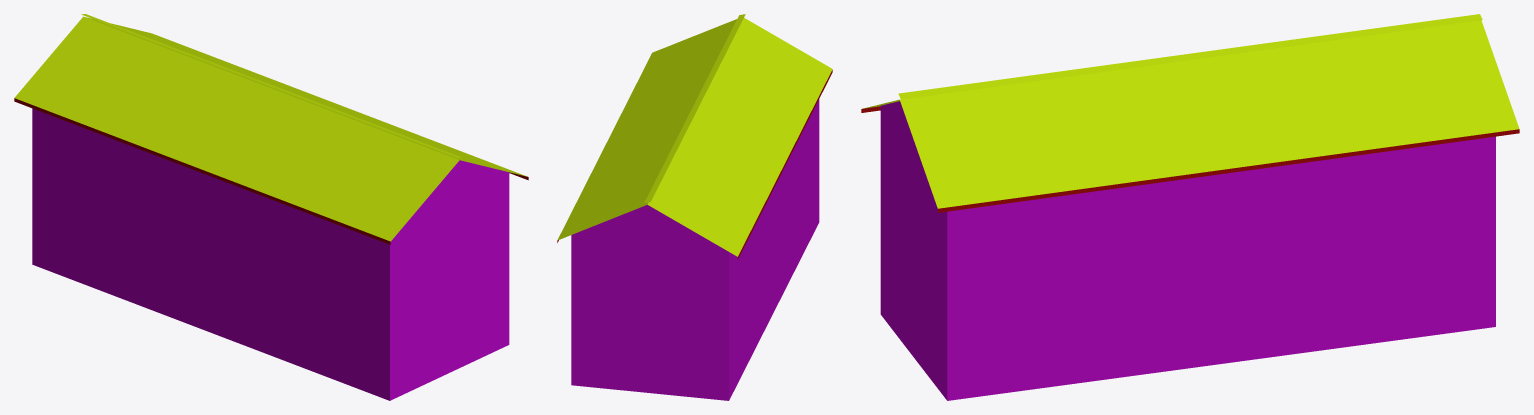
3 renders of one model, left to right at view 1: azimuth 30°, elevation 25°; view 2: azimuth 150°, elevation 25°; view 3: azimuth 270°, elevation 25°, orthographic. The views are drawn at different scales.
Visible parts, largest first — view 1: sc_14; view 2: sc_14; view 3: sc_14.
Boxes of the visible parts, box(x1,y1,x2,y2) form: sc_14: box(14, 14, 528, 400); sc_14: box(557, 14, 832, 400); sc_14: box(861, 14, 1519, 400).
Bounding box in the file's own units: 11.1 × 7.64 × 17.22.
